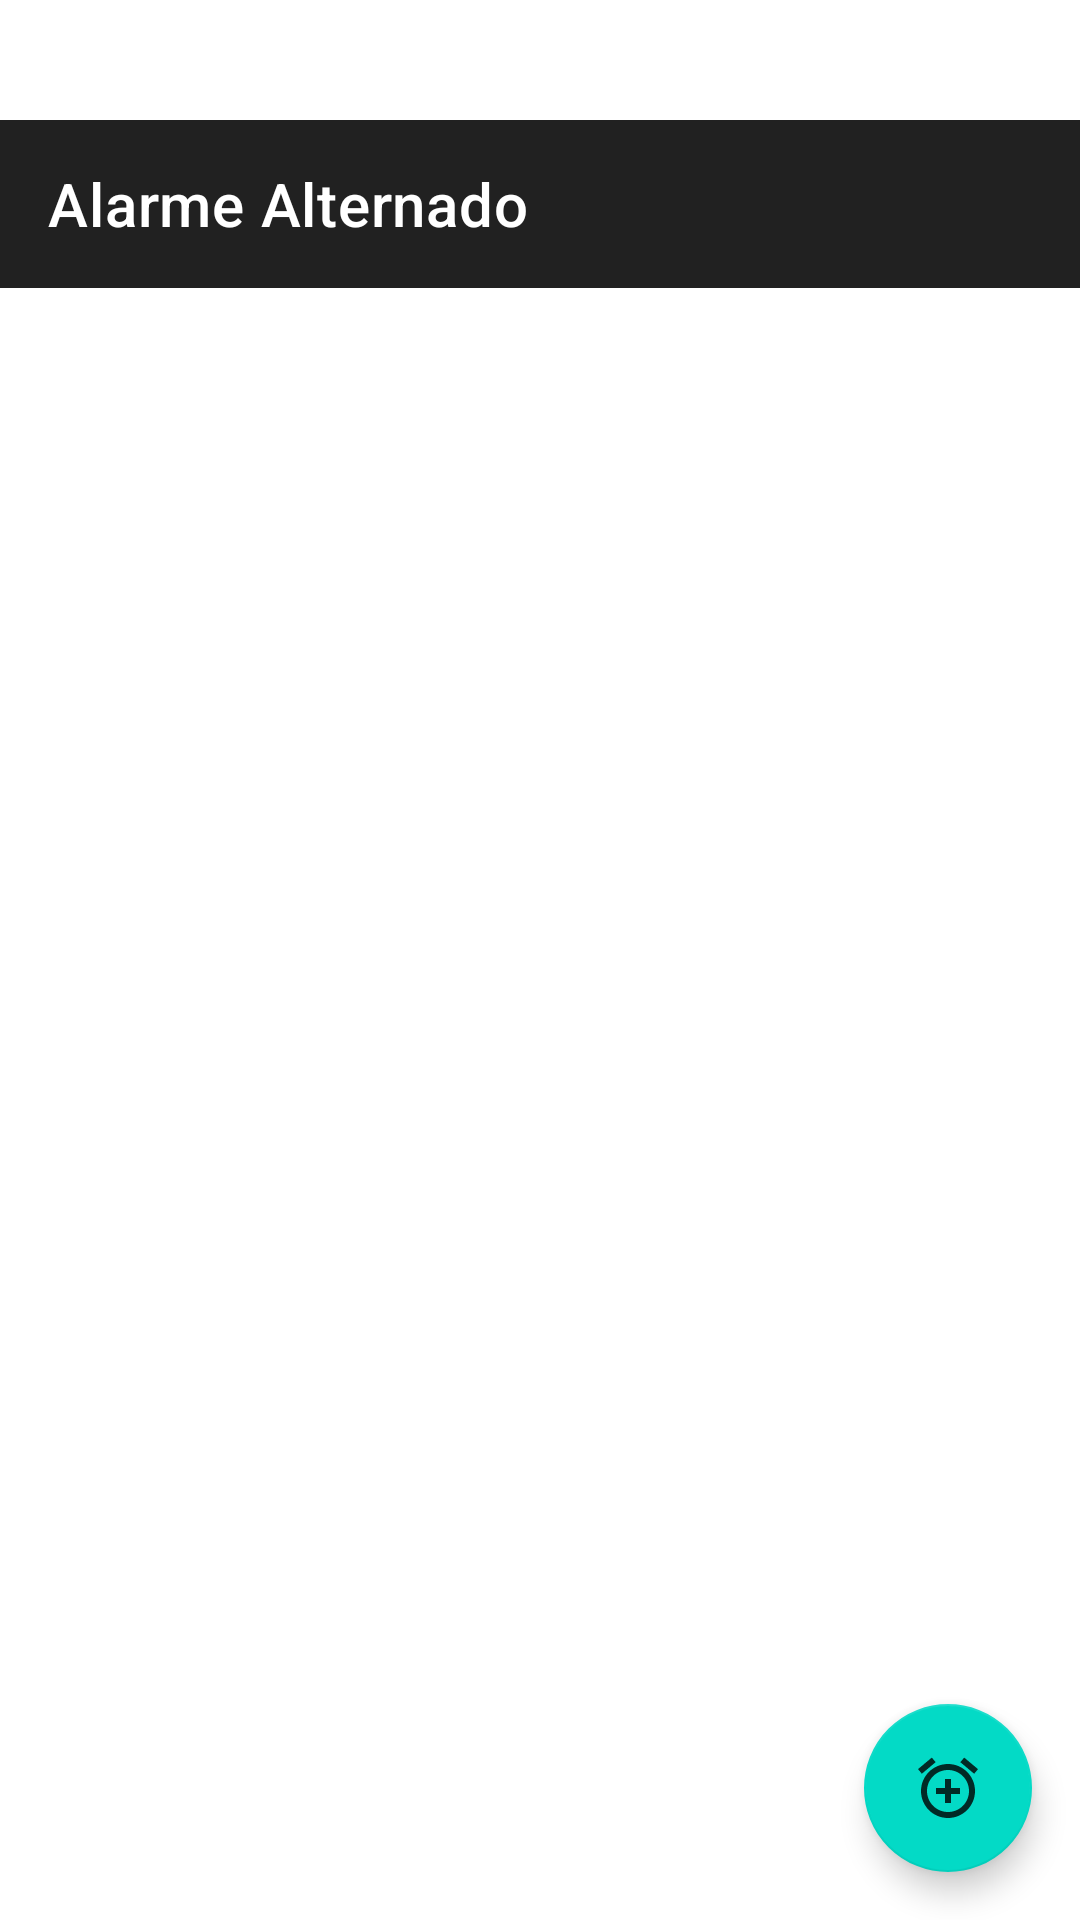

Screen size 1080 × 1920. Icon name, then its center in pixels as (x,y):
Adicionar Alarme: (948,1788)
